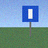sign: (22, 6, 38, 36)
